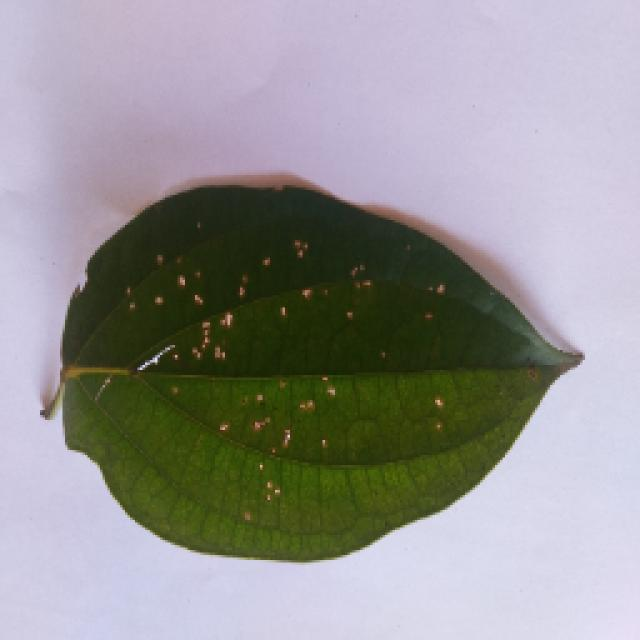pollu-disease: (32, 182, 590, 572)
